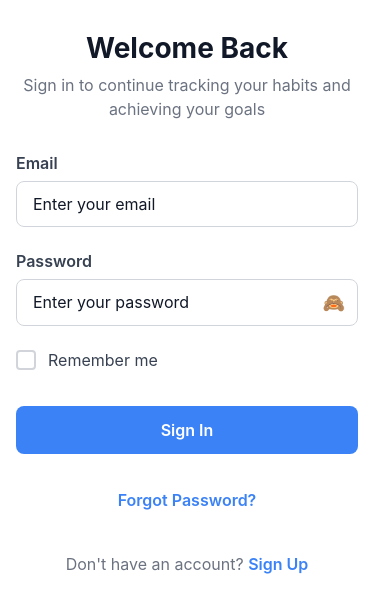
Test: LoginScreen › Form Validation › should clear validation errors when user starts typing
# Trigger validation error
Click the element with test id "signin-button": (187, 430) x1=16 y1=406 x2=358 y2=454
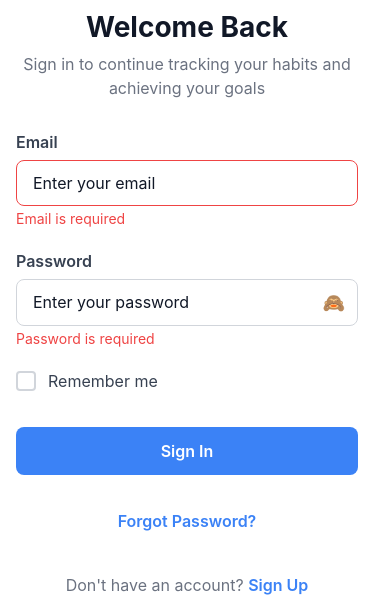
Expected: the text "Email is required" is shown, x1=16 y1=210 x2=125 y2=226
# Start typing - error should clear
In the field with test id "email-input": (187, 182) x1=16 y1=160 x2=358 y2=206, type "test@example.com"
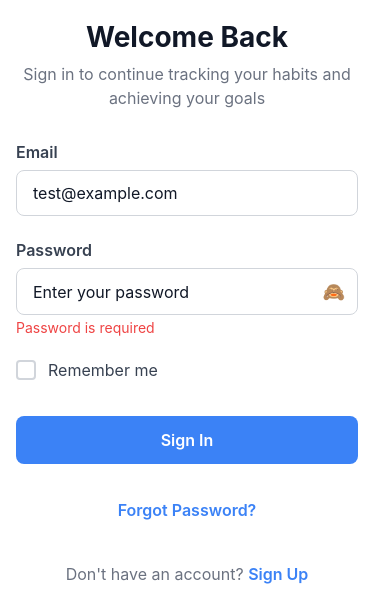
Expected: the text "Email is required" is gone
